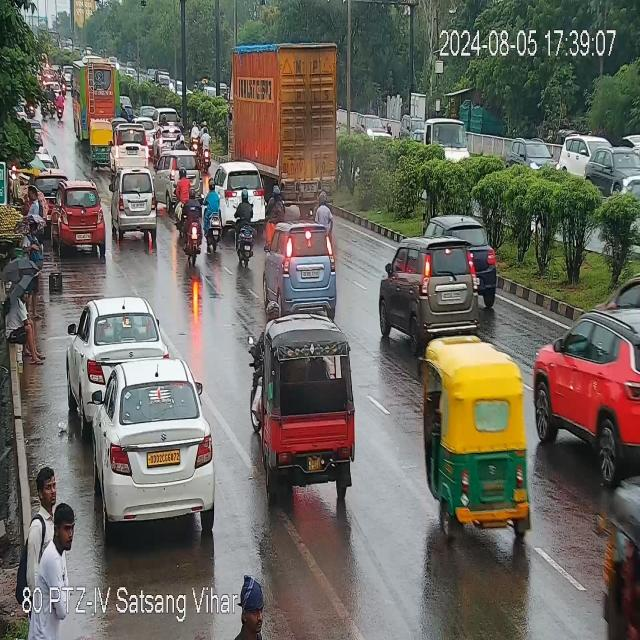2-wheelers: (233, 190, 257, 265), (183, 189, 203, 267), (204, 183, 223, 254), (178, 170, 189, 217), (201, 124, 211, 168)
auto: (422, 327, 530, 538), (250, 313, 357, 481), (90, 120, 113, 172)
bus: (74, 59, 118, 138)
car: (91, 358, 219, 529), (532, 307, 637, 476), (376, 233, 487, 348), (68, 295, 163, 404), (267, 220, 343, 322), (429, 215, 497, 290), (53, 186, 105, 251), (114, 171, 160, 241), (586, 135, 639, 195), (217, 161, 266, 219), (156, 150, 202, 199), (506, 139, 562, 172), (112, 125, 150, 171), (559, 137, 605, 174), (358, 113, 393, 144)
pedestrian: (25, 467, 74, 639), (26, 186, 49, 244)
truck: (232, 37, 352, 205), (424, 116, 470, 164)
